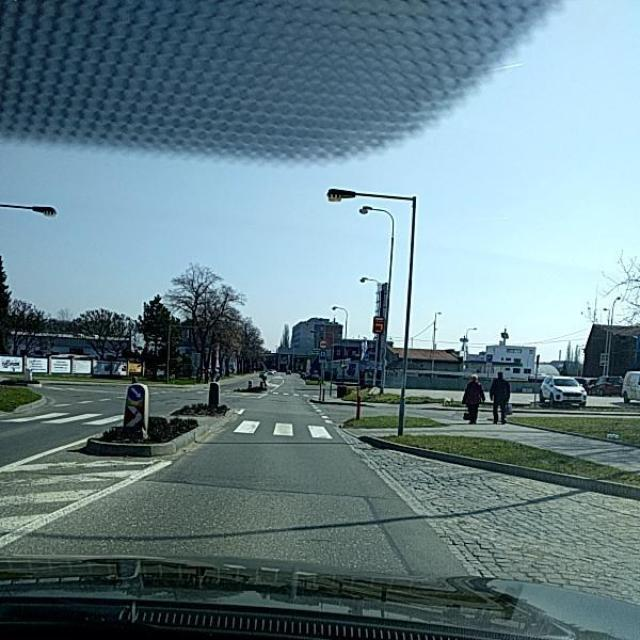Crack: (307, 417, 640, 640)
